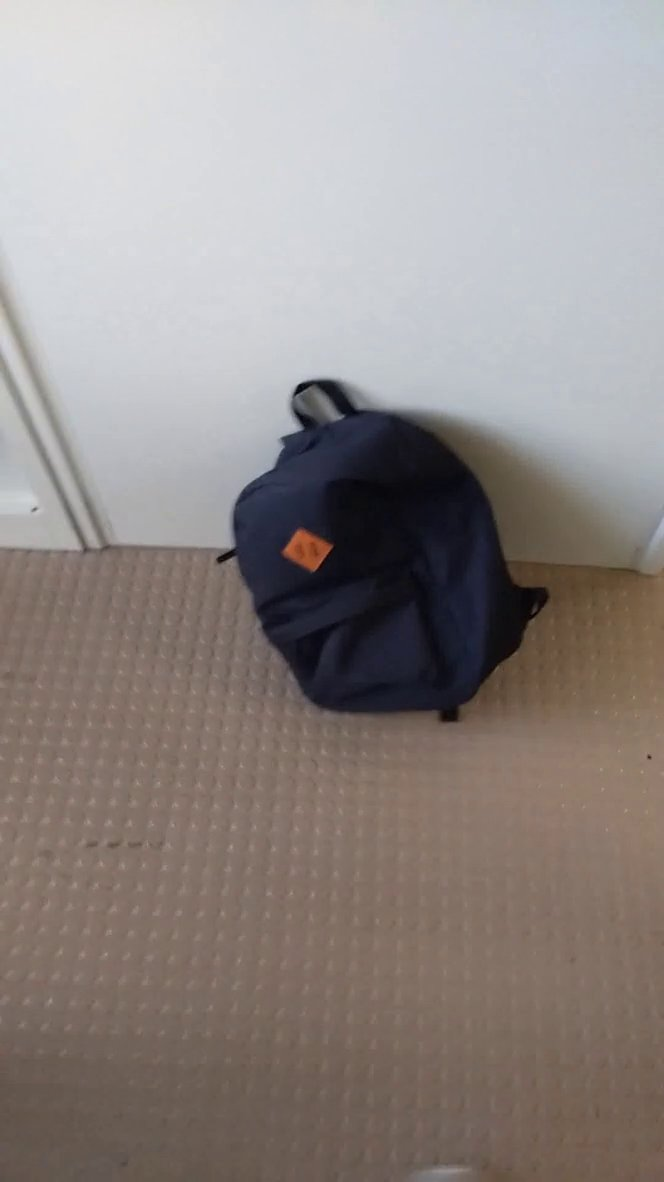bag: (177, 378, 579, 737)
